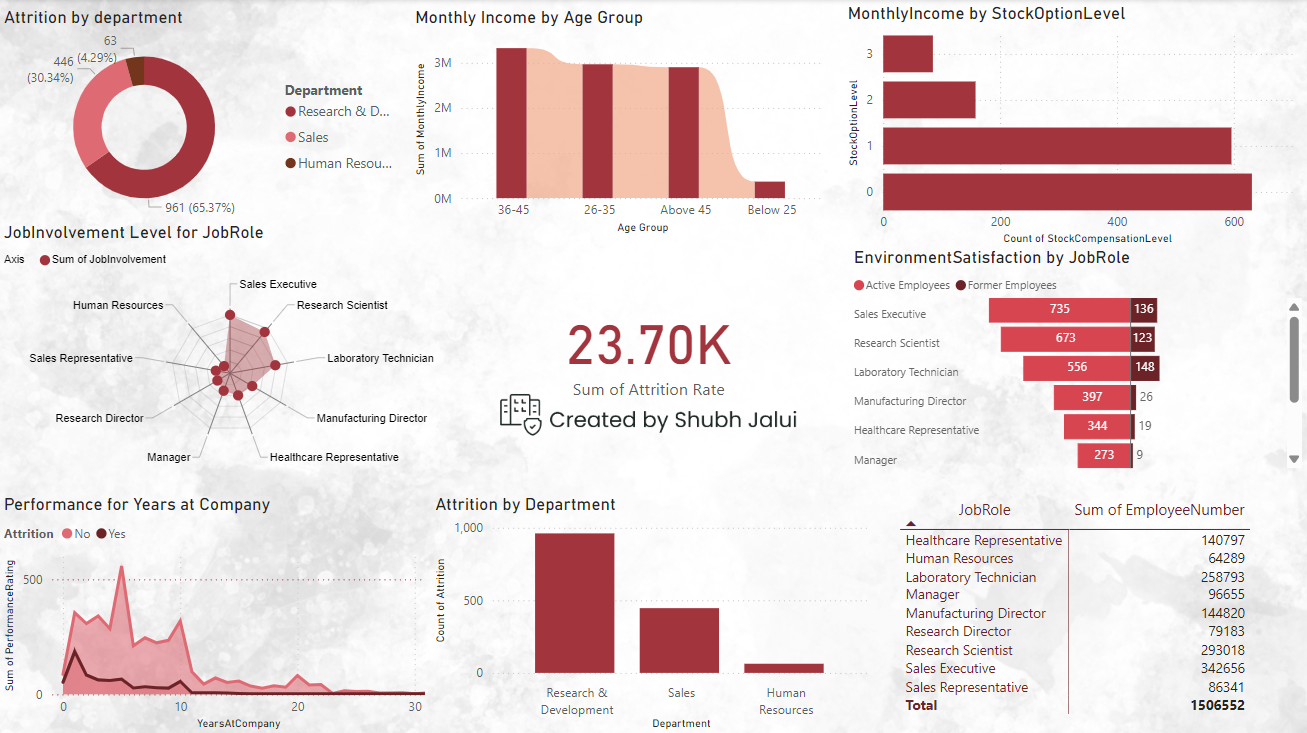

This screenshot's page, from the dashboard's own definition file:
{"tool":"powerbi","page":{"name":"Page 1","canvas":[1280,720],"ordinal":0},"visuals":[{"type":"lineClusteredColumnComboChart","title":"Attrition by Department","fields":{"Category":["HR-Employee-Attrition.Department"],"Y":["CountNonNull(HR-Employee-Attrition.Attrition)"]},"box":[421.9,484.2,435.3,236],"z":0},{"type":"ribbonChart","title":"Monthly Income by Age Group","fields":{"Y":["Sum(HR-Employee-Attrition.MonthlyIncome)"],"Category":["HR-Employee-Attrition.Age Group"]},"box":[402.3,7.3,409.6,227.4],"z":1000},{"type":"donutChart","title":"Attrition by department","fields":{"Category":["HR-Employee-Attrition.Department"],"Y":["CountNonNull(HR-Employee-Attrition.Attrition)"],"Series":["HR-Employee-Attrition.Attrition Rate"]},"box":[0,7.3,402.3,217.7],"z":2000},{"type":"barChart","title":"MonthlyIncome by StockOptionLevel","fields":{"Y":["CountNonNull(HR-Employee-Attrition.StockCompensationLevel)"],"Category":["HR-Employee-Attrition.StockOptionLevel"]},"box":[825.1,3.7,454.9,242.1],"z":3000},{"type":"lineChart","title":"Performance for Years at Company","fields":{"Category":["HR-Employee-Attrition.YearsAtCompany"],"Y":["Sum(HR-Employee-Attrition.PerformanceRating)"],"Series":["HR-Employee-Attrition.Attrition"]},"box":[0,484.2,421.9,236],"z":4000},{"type":"card","fields":{"Values":["Sum(HR-Employee-Attrition.Attrition Rate)"]},"box":[440.2,238.5,391.3,207.9],"z":5000},{"type":"pivotTable","fields":{"Rows":["HR-Employee-Attrition.JobRole"],"Values":["Sum(HR-Employee-Attrition.EmployeeNumber)"]},"box":[876.8,484.2,363.2,236],"z":6000},{"type":"TornadoChart1452517688218","title":"EnvironmentSatisfaction by JobRole","fields":{"Category":["HR-Employee-Attrition.JobRole"],"Values":["Sum(HR-Employee-Attrition.EnvironmentSatisfaction)"],"Series":["HR-Employee-Attrition.Employee_Status"]},"box":[831.5,242.1,448.8,242.1],"z":7000},{"type":"RadarChart1446119667547","title":"JobInvolvement Level for JobRole","fields":{"Category":["HR-Employee-Attrition.JobRole"],"Y":["Sum(HR-Employee-Attrition.JobInvolvement)"]},"box":[0,217.7,452.4,251.9],"z":8000}]}

Visuals, with their boxes in screenshot pixels (x1, y1, x2, y2), scaled from the page's 1280x720 canvas onto the 1307x733 screenshot:
"Attrition by Department" lineClusteredColumnComboChart: [431,493,875,732]
"Monthly Income by Age Group" ribbonChart: [411,7,829,239]
"Attrition by department" donutChart: [0,7,411,229]
"MonthlyIncome by StockOptionLevel" barChart: [843,4,1306,250]
"Performance for Years at Company" lineChart: [0,493,431,732]
card - Sum(HR-Employee-Attrition.Attrition Rate): [449,243,849,454]
pivotTable - HR-Employee-Attrition.JobRole x Sum(HR-Employee-Attrition.EmployeeNumber): [895,493,1266,732]
"EnvironmentSatisfaction by JobRole" TornadoChart1452517688218: [849,246,1306,493]
"JobInvolvement Level for JobRole" RadarChart1446119667547: [0,222,462,478]
